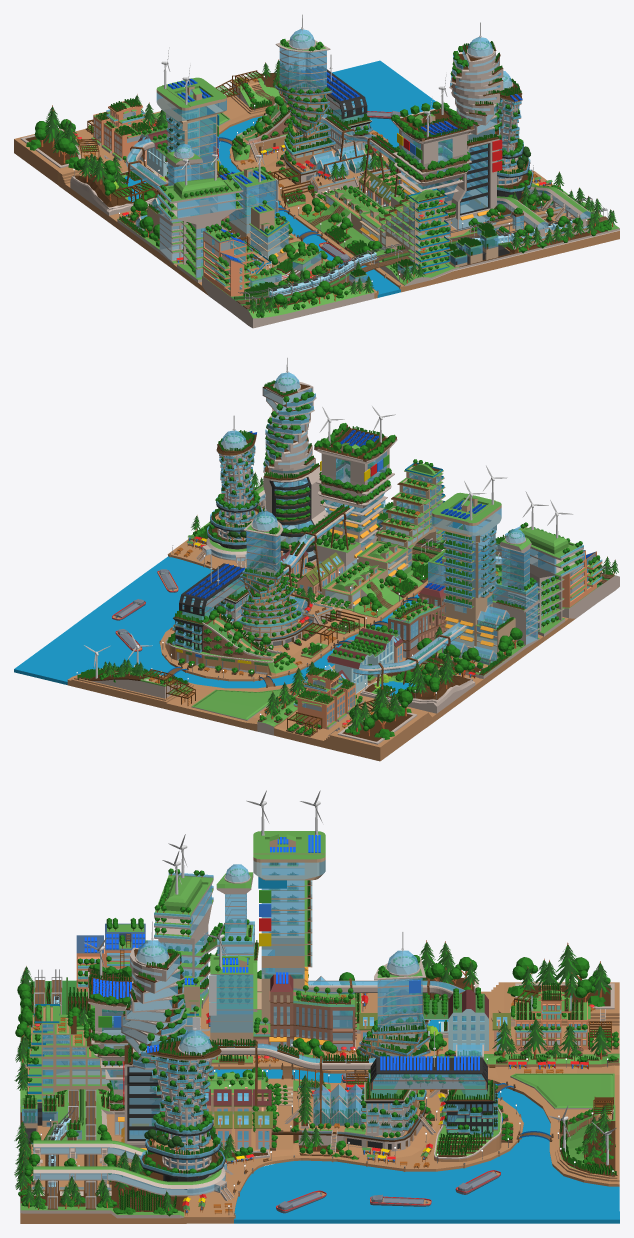
Rendered from mockup_3_v9_unity_export.fbx.
3 renders of one model, top to bottom at view 1: azimuth 30°, elevation 25°; view 2: azimuth 150°, elevation 25°; view 3: azimuth 270°, elevation 25°, orthographic. The views are drawn at different scales.
Visible parts, largest first — view 1: Plane.029, Plane, Plane.028, Cube.111, Cube.078, Plane.068, Cube.112, Cube.1310, Plane.002, Cube.129, Plane.103, Cube (+27 smaller); view 2: Plane.028, Plane, Cube.078, Plane.029, Cube.111, Cube.112, Plane.068, Plane.069, Cube.1310, Cylinder.901, Cube.054, Cube.057 (+16 smaller); view 3: Plane.028, Plane.029, Plane, Cube.078, Cube.111, Cylinder.901, Cube.054, Plane.068, Cube.742, Plane.069, Cube, Cube.1141 (+32 smaller).
Boxes of the visible parts, bbox=[...] form: Plane.029: bbox=[229, 130, 619, 292]; Plane: bbox=[14, 93, 378, 298]; Plane.028: bbox=[209, 60, 506, 297]; Cube.111: bbox=[314, 186, 450, 274]; Cube.078: bbox=[147, 77, 226, 234]; Plane.068: bbox=[157, 177, 243, 277]; Cube.112: bbox=[389, 107, 474, 237]; Cube.1310: bbox=[445, 130, 499, 230]; Plane.002: bbox=[202, 252, 374, 328]; Cube.129: bbox=[202, 229, 258, 296]; Plane.103: bbox=[275, 39, 332, 100]; Cube: bbox=[229, 167, 276, 244]; Plane.028: bbox=[14, 550, 487, 688]; Plane: bbox=[67, 582, 575, 761]; Cube.078: bbox=[431, 492, 515, 657]; Plane.029: bbox=[160, 487, 470, 681]; Cube.111: bbox=[312, 463, 445, 617]; Cube.112: bbox=[313, 427, 397, 570]; Plane.068: bbox=[505, 526, 583, 631]; Plane.069: bbox=[469, 537, 543, 644]; Cube.1310: bbox=[263, 466, 327, 562]; Cylinder.901: bbox=[207, 432, 265, 549]; Cube.054: bbox=[387, 583, 445, 657]; Cube.057: bbox=[327, 627, 401, 693]; Plane.028: bbox=[21, 1069, 619, 1223]; Plane.029: bbox=[20, 1078, 523, 1223]; Plane: bbox=[24, 982, 619, 1186]; Cube.078: bbox=[253, 831, 325, 1022]; Cube.111: bbox=[27, 1005, 292, 1113]; Cylinder.901: bbox=[140, 1042, 225, 1189]; Cube.054: bbox=[253, 974, 356, 1051]; Plane.068: bbox=[154, 872, 214, 998]; Cube.742: bbox=[370, 1057, 487, 1097]; Plane.069: bbox=[206, 872, 259, 1013]; Cube: bbox=[210, 956, 253, 1042]; Cube.1141: bbox=[32, 1166, 226, 1196].
Size of the model in its own units: 20149 by 9920 by 21487.
